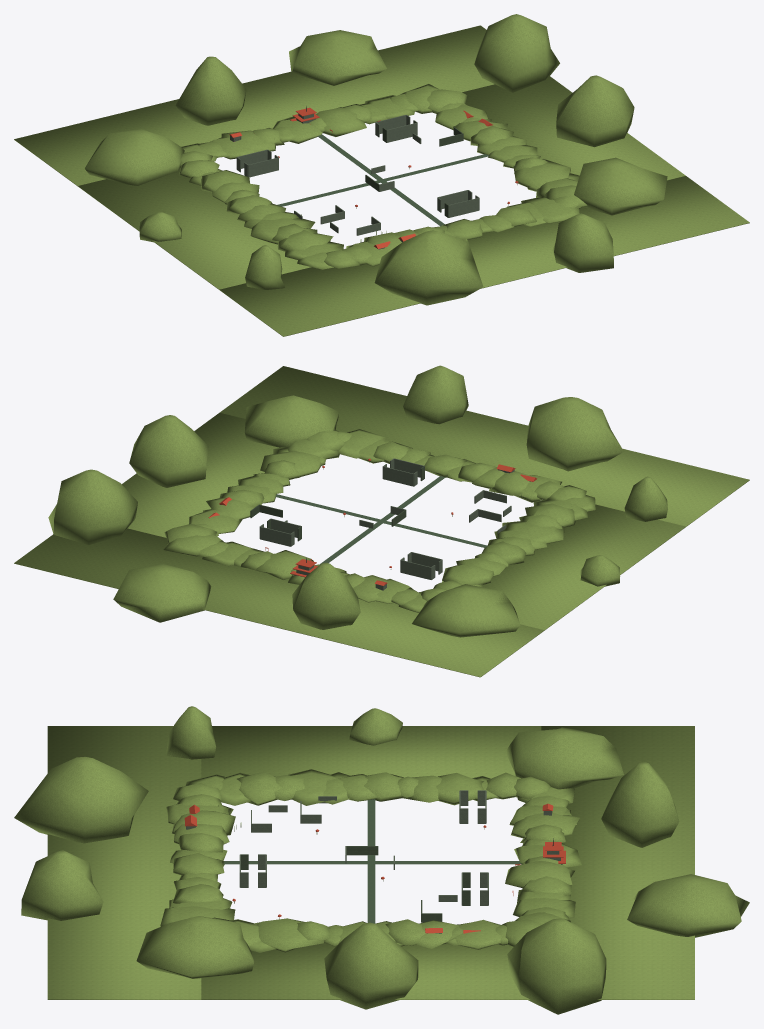
Rendered from chikurin-lod2.glb.
3 renders of one model, top to bottom at view 1: azimuth 30°, elevation 25°; view 2: azimuth 150°, elevation 25°; view 3: azimuth 270°, elevation 25°, orthographic. The views are drawn at different scales.
Parts seen in each view (by area): view 1: HB_chikurin_LOD2_terrain, HB_chikurin_LOD2_wall, HB_chikurin_LOD2_road, HB_chikurin_LOD2_accent; view 2: HB_chikurin_LOD2_terrain, HB_chikurin_LOD2_wall, HB_chikurin_LOD2_road, HB_chikurin_LOD2_accent, HB_chikurin_LOD2_wall_alt; view 3: HB_chikurin_LOD2_terrain, HB_chikurin_LOD2_wall, HB_chikurin_LOD2_road, HB_chikurin_LOD2_wall_alt, HB_chikurin_LOD2_accent.
Boxes of the visible parts, <box> form: HB_chikurin_LOD2_terrain: <box>14,14,749,336</box>; HB_chikurin_LOD2_wall: <box>230,114,479,249</box>; HB_chikurin_LOD2_road: <box>277,134,488,226</box>; HB_chikurin_LOD2_accent: <box>229,107,518,249</box>; HB_chikurin_LOD2_terrain: <box>14,365,749,677</box>; HB_chikurin_LOD2_wall: <box>220,458,530,590</box>; HB_chikurin_LOD2_road: <box>275,476,487,564</box>; HB_chikurin_LOD2_accent: <box>208,458,536,585</box>; HB_chikurin_LOD2_wall_alt: <box>250,466,424,541</box>; HB_chikurin_LOD2_terrain: <box>14,706,749,1014</box>; HB_chikurin_LOD2_wall: <box>186,790,562,933</box>; HB_chikurin_LOD2_road: <box>223,799,521,923</box>; HB_chikurin_LOD2_wall_alt: <box>240,846,470,922</box>; HB_chikurin_LOD2_accent: <box>184,803,565,933</box>.
Size of the model in its own units: 583 by 63.8 by 623.
9 materials, 7 textured.
